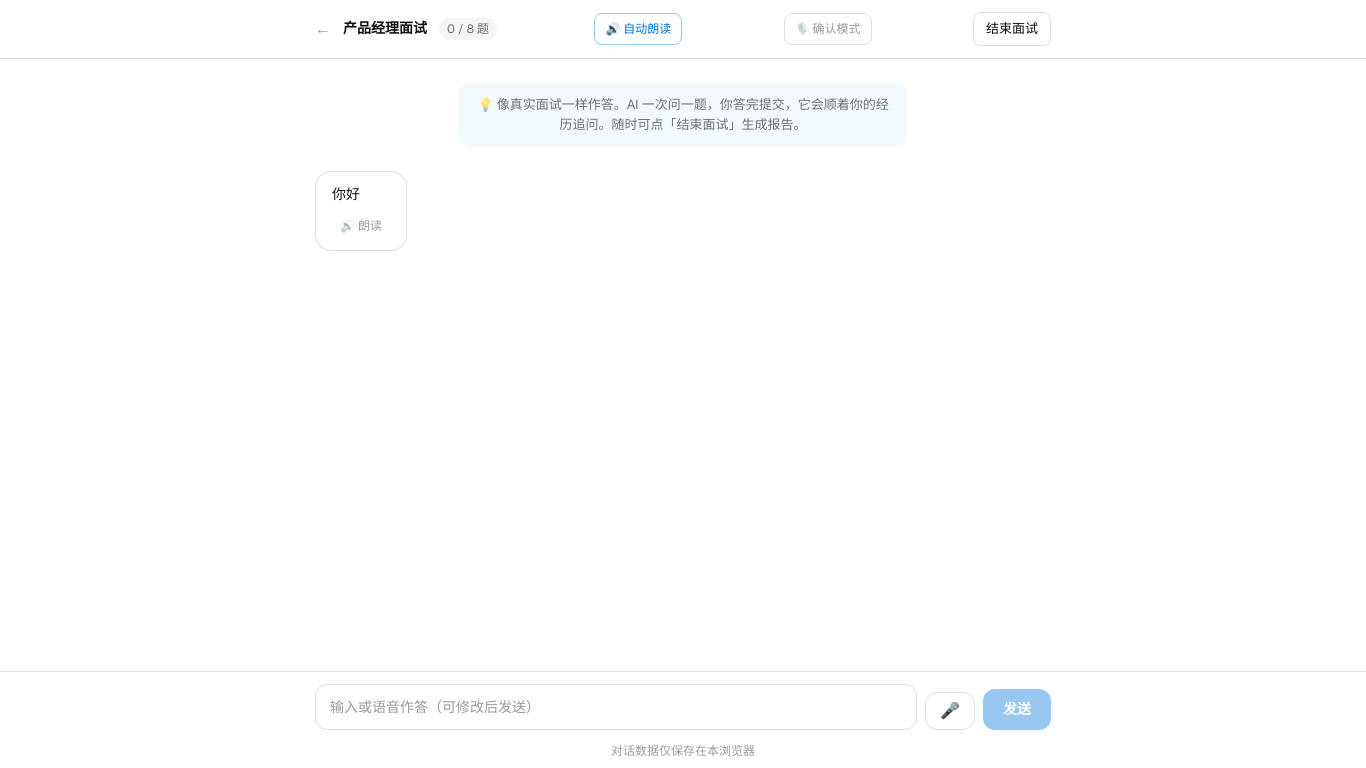
Test: InterviewPage › 回答不足 2 轮点结束给提示且不跳转
expect the text "你好" is shown: met, box [332,184,360,202]
Step 1. Click the button "结束面试" → (1012, 29), box [973,12,1051,46]
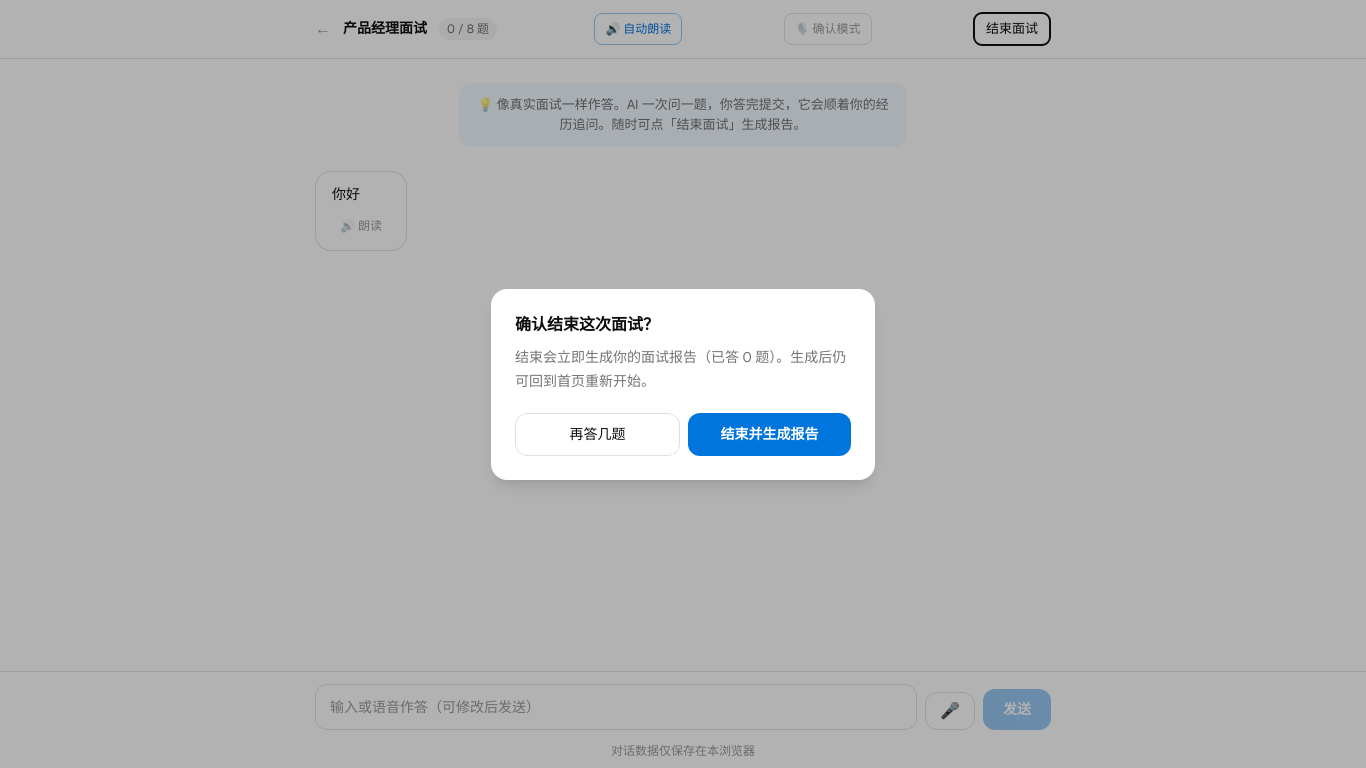
expect the dialog is shown: met
Step 2. Click the button "结束并生成报告" → (770, 434), box [688,412,851,456]
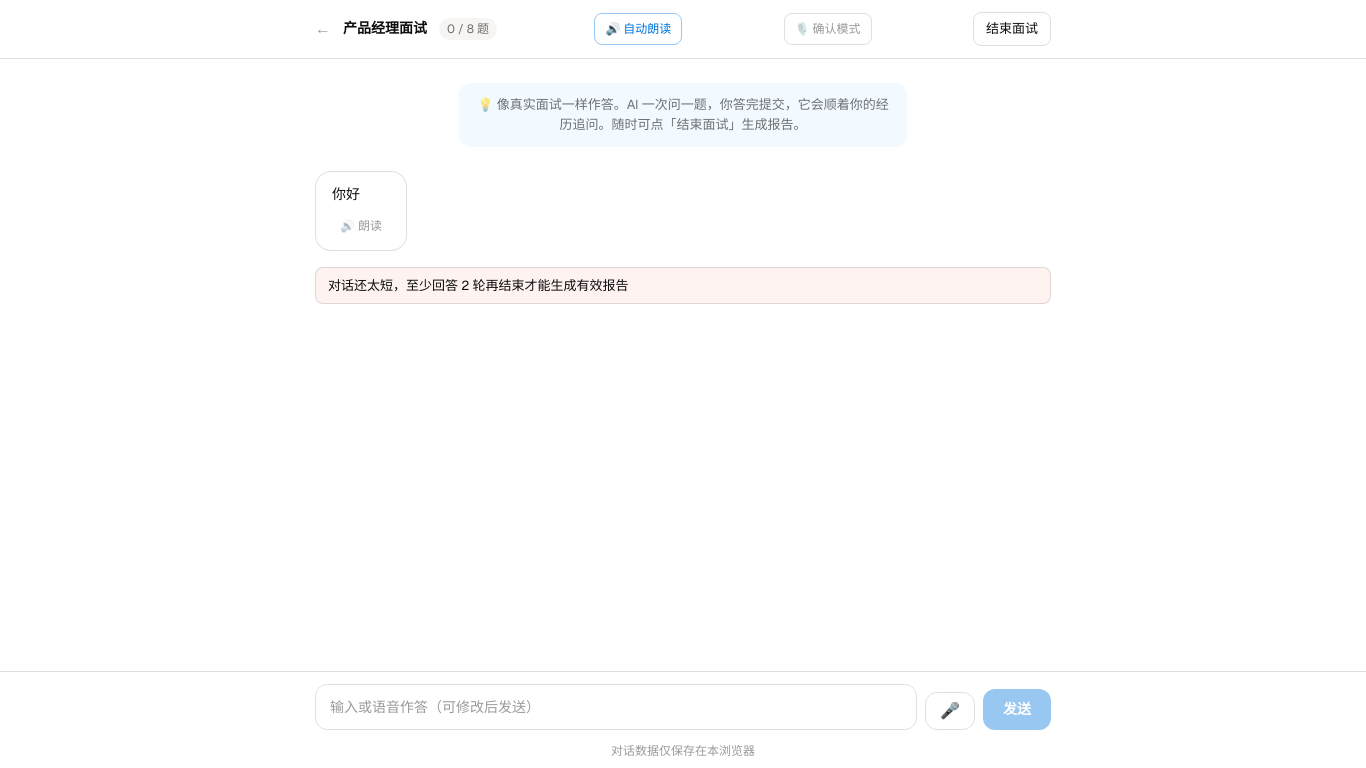
expect the text "对话还太短，至少回答 2 轮再结束才能生成有效报告" is shown: met, box [315,266,1051,304]
